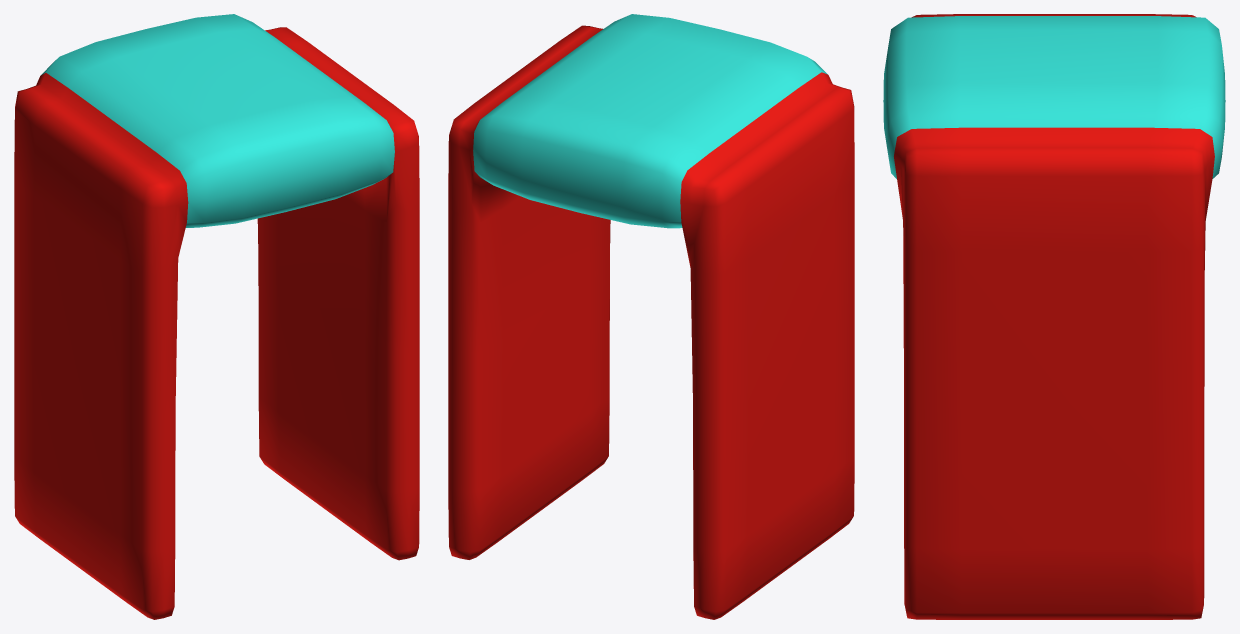
Rendered from Guvenlik_X_Ray.fbx.
The picture shows the model from 3 angles, left to right: view 1: azimuth 30°, elevation 25°; view 2: azimuth 150°, elevation 25°; view 3: azimuth 270°, elevation 25°; orthographic projection. The views are drawn at different scales.
Visible parts, largest first — view 1: Cube; view 2: Cube; view 3: Cube.
Part boxes in pixels (x1,y1,x2,y2): Cube: (14,14,419,619); Cube: (448,14,854,619); Cube: (883,14,1225,619).
Bounding box in the file's own units: 133 × 208 × 131.
